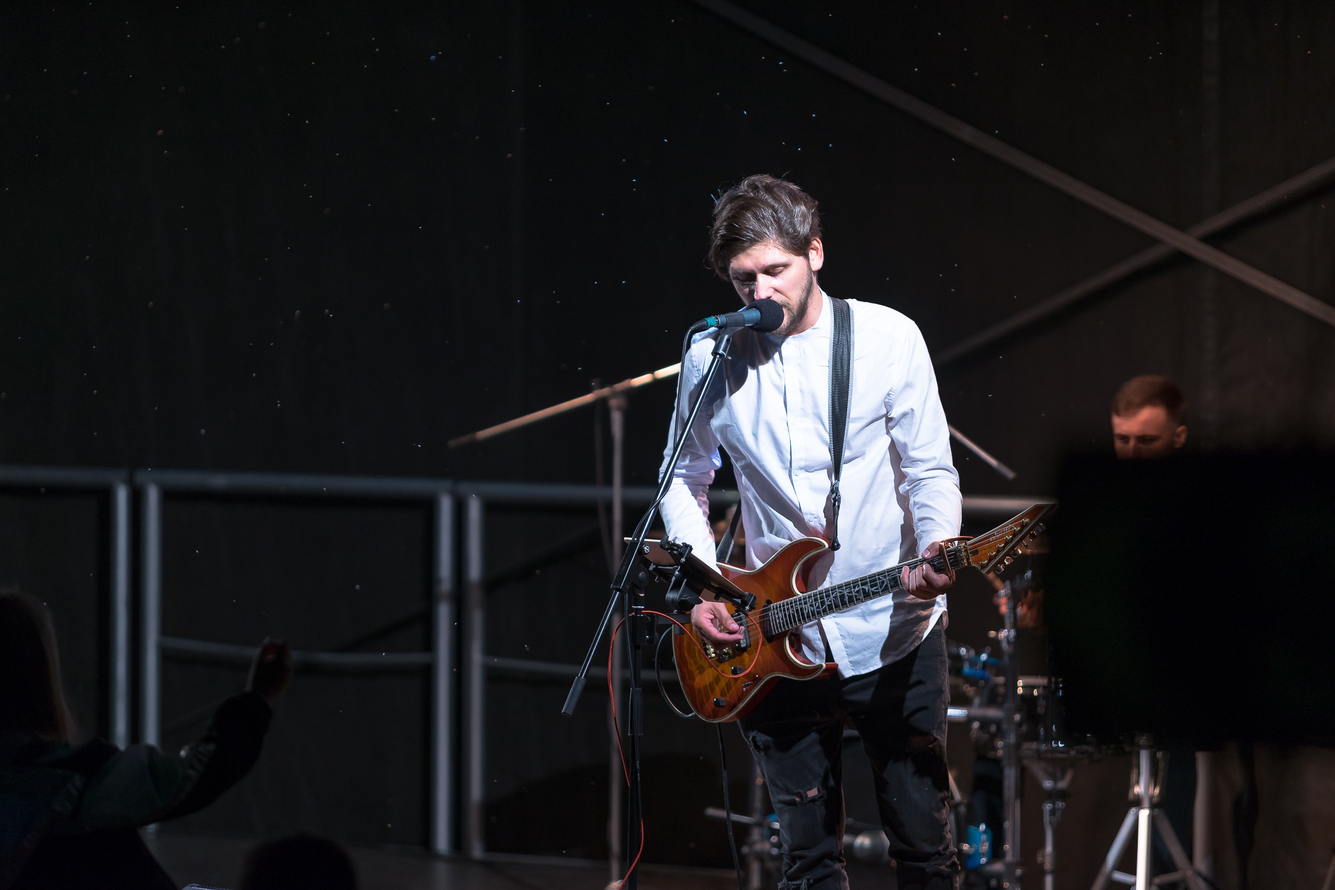acousticguitar: (673, 491, 1053, 727)
